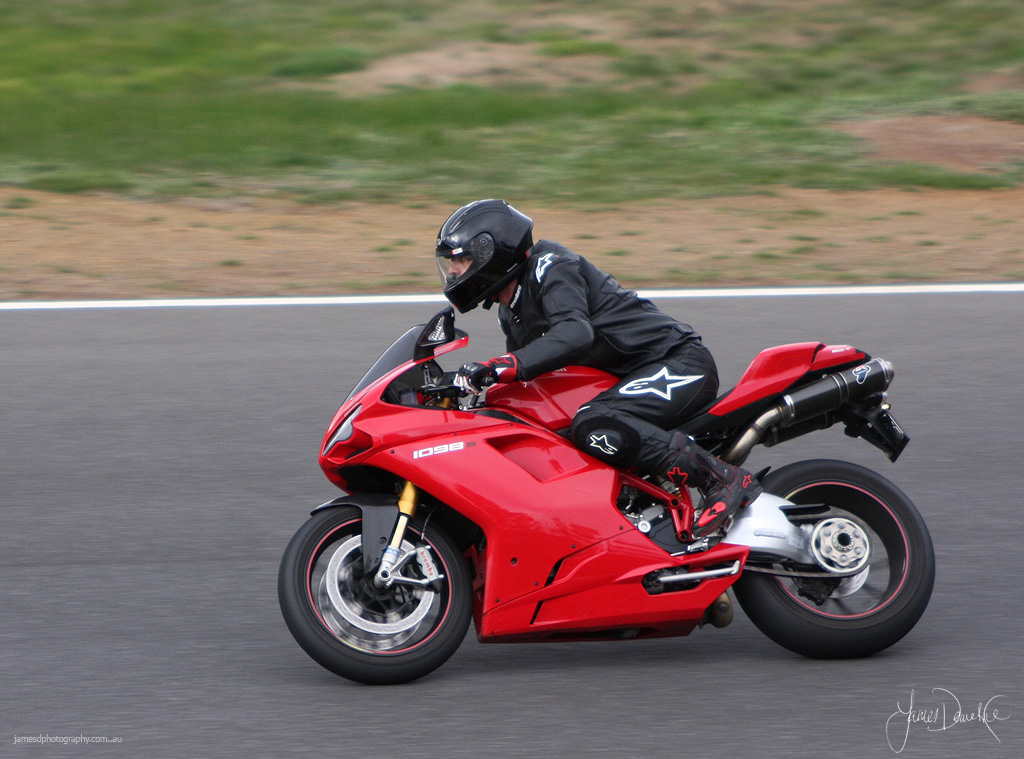helmet: (431, 199, 537, 303)
